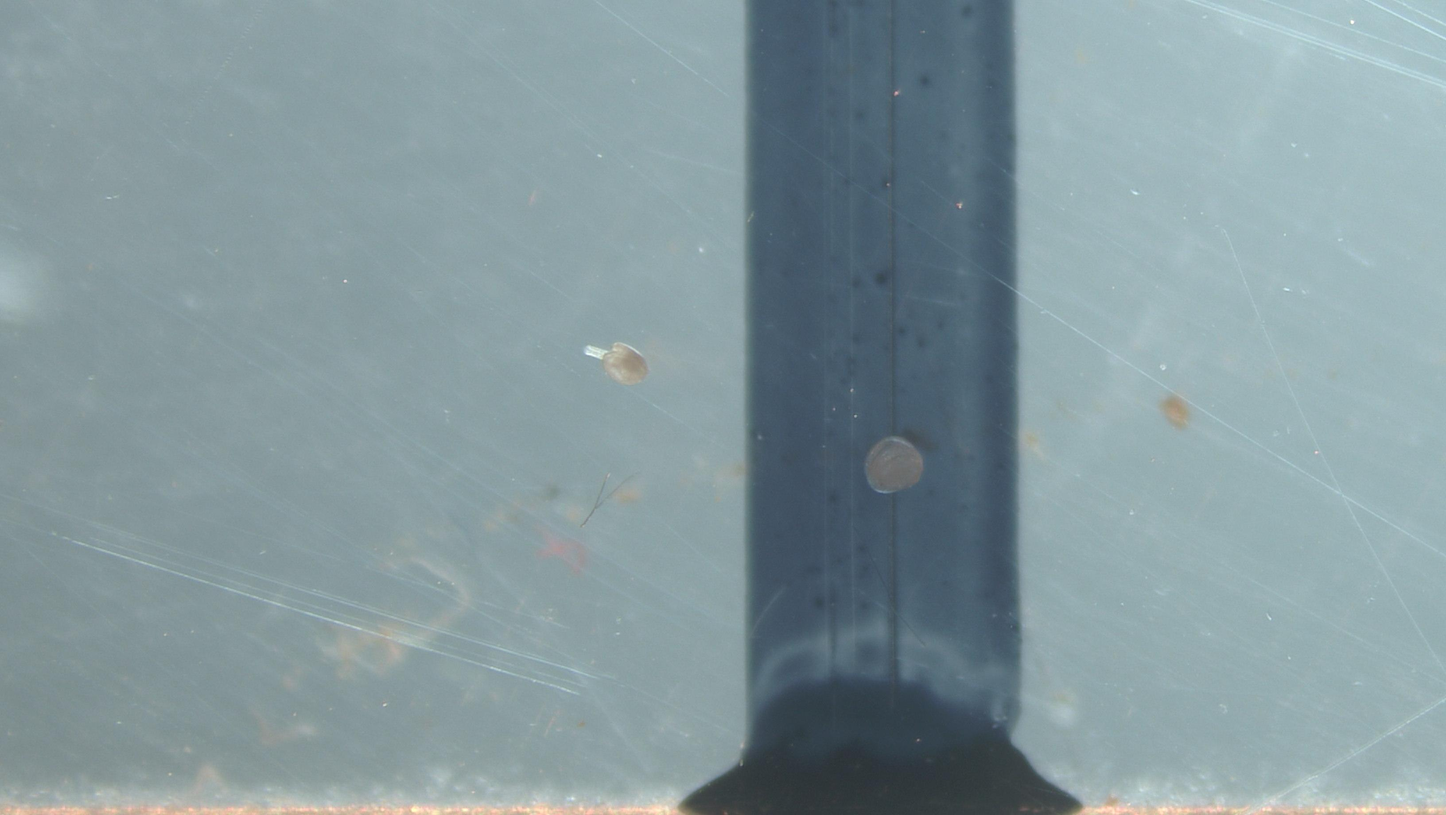live: (865, 436, 924, 494), (602, 342, 649, 386)
